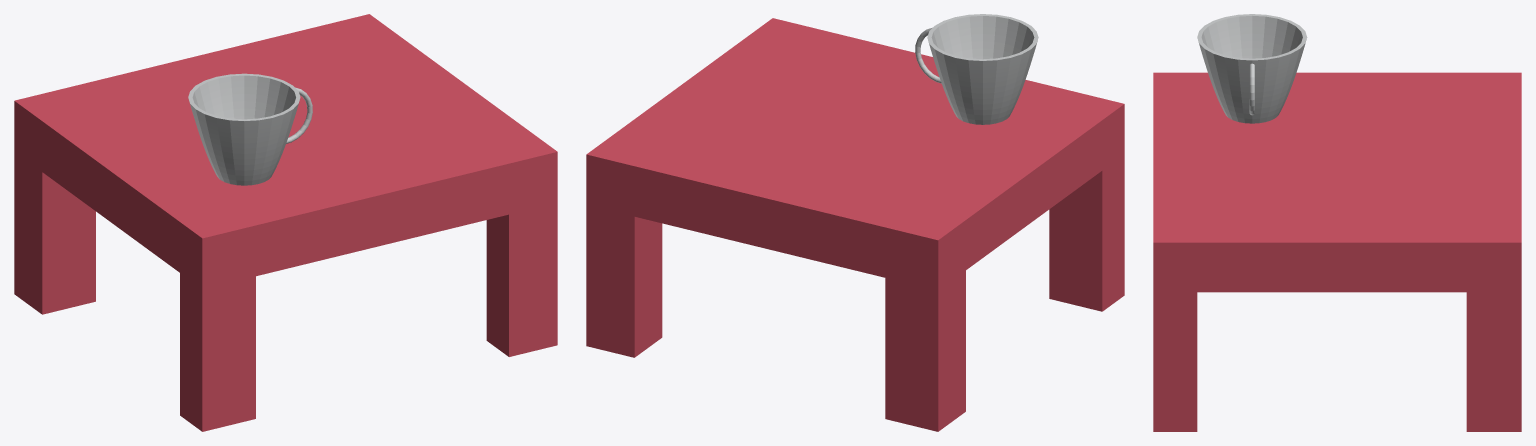
File: Abi table.glb
The picture shows the model from 3 angles, left to right: view 1: azimuth 30°, elevation 25°; view 2: azimuth 150°, elevation 25°; view 3: azimuth 270°, elevation 25°; orthographic projection. The views are drawn at different scales.
Visible parts, largest first — view 1: Mesh_Mesh_head_geo.001_lambert2SG.001; view 2: Mesh_Mesh_head_geo.001_lambert2SG.001; view 3: Mesh_Mesh_head_geo.001_lambert2SG.001.
Part boxes in pixels (bbox=[...]): Mesh_Mesh_head_geo.001_lambert2SG.001: bbox=[14, 14, 557, 431]; Mesh_Mesh_head_geo.001_lambert2SG.001: bbox=[586, 14, 1124, 431]; Mesh_Mesh_head_geo.001_lambert2SG.001: bbox=[1153, 14, 1521, 431].
Size of the model in its own units: 73 by 54 by 67.
